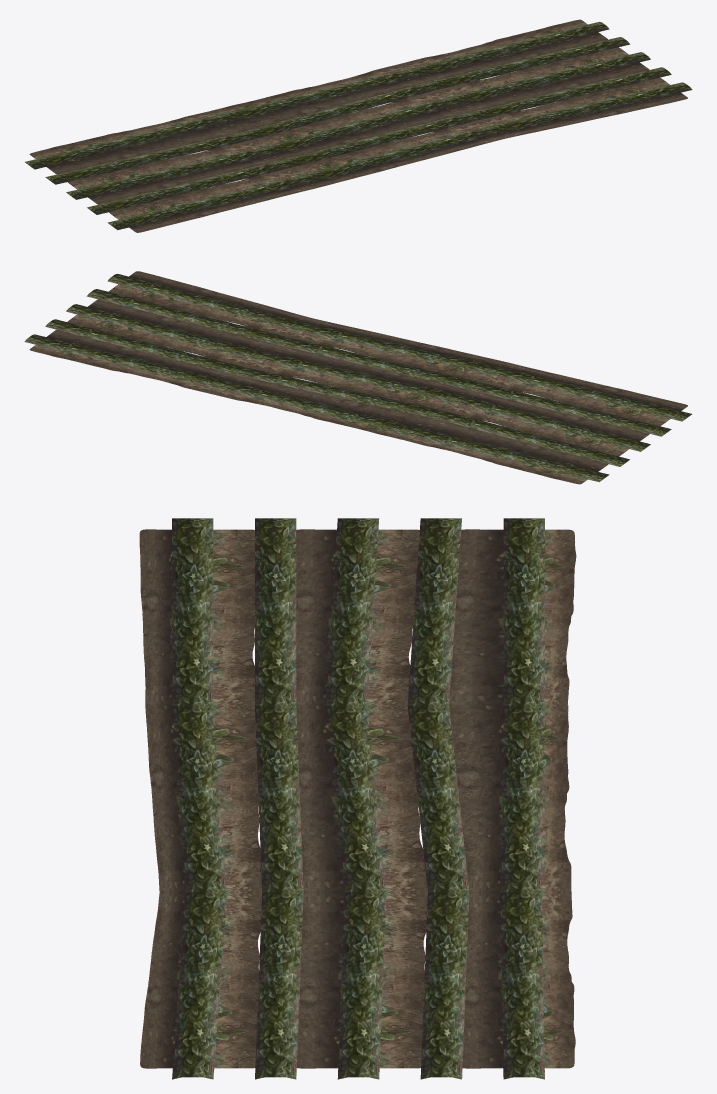
File: s7_fightpve_nongtian.FBX
3 renders of one model, top to bottom at view 1: azimuth 30°, elevation 25°; view 2: azimuth 150°, elevation 25°; view 3: azimuth 270°, elevation 25°, orthographic. The views are drawn at different scales.
Parts seen in each view (by area): view 1: Plane01; view 2: Plane01; view 3: Plane01.
Boxes of the visible parts, x1=… form: Plane01: x1=25, y1=19, x2=692, y2=232; Plane01: x1=24, y1=271, x2=691, y2=484; Plane01: x1=139, y1=518, x2=576, y2=1079.
Size of the model in its own units: 109 by 0.2137 by 37.37.
